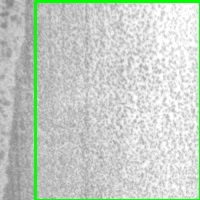pitted_surface: (35, 1, 200, 200)
